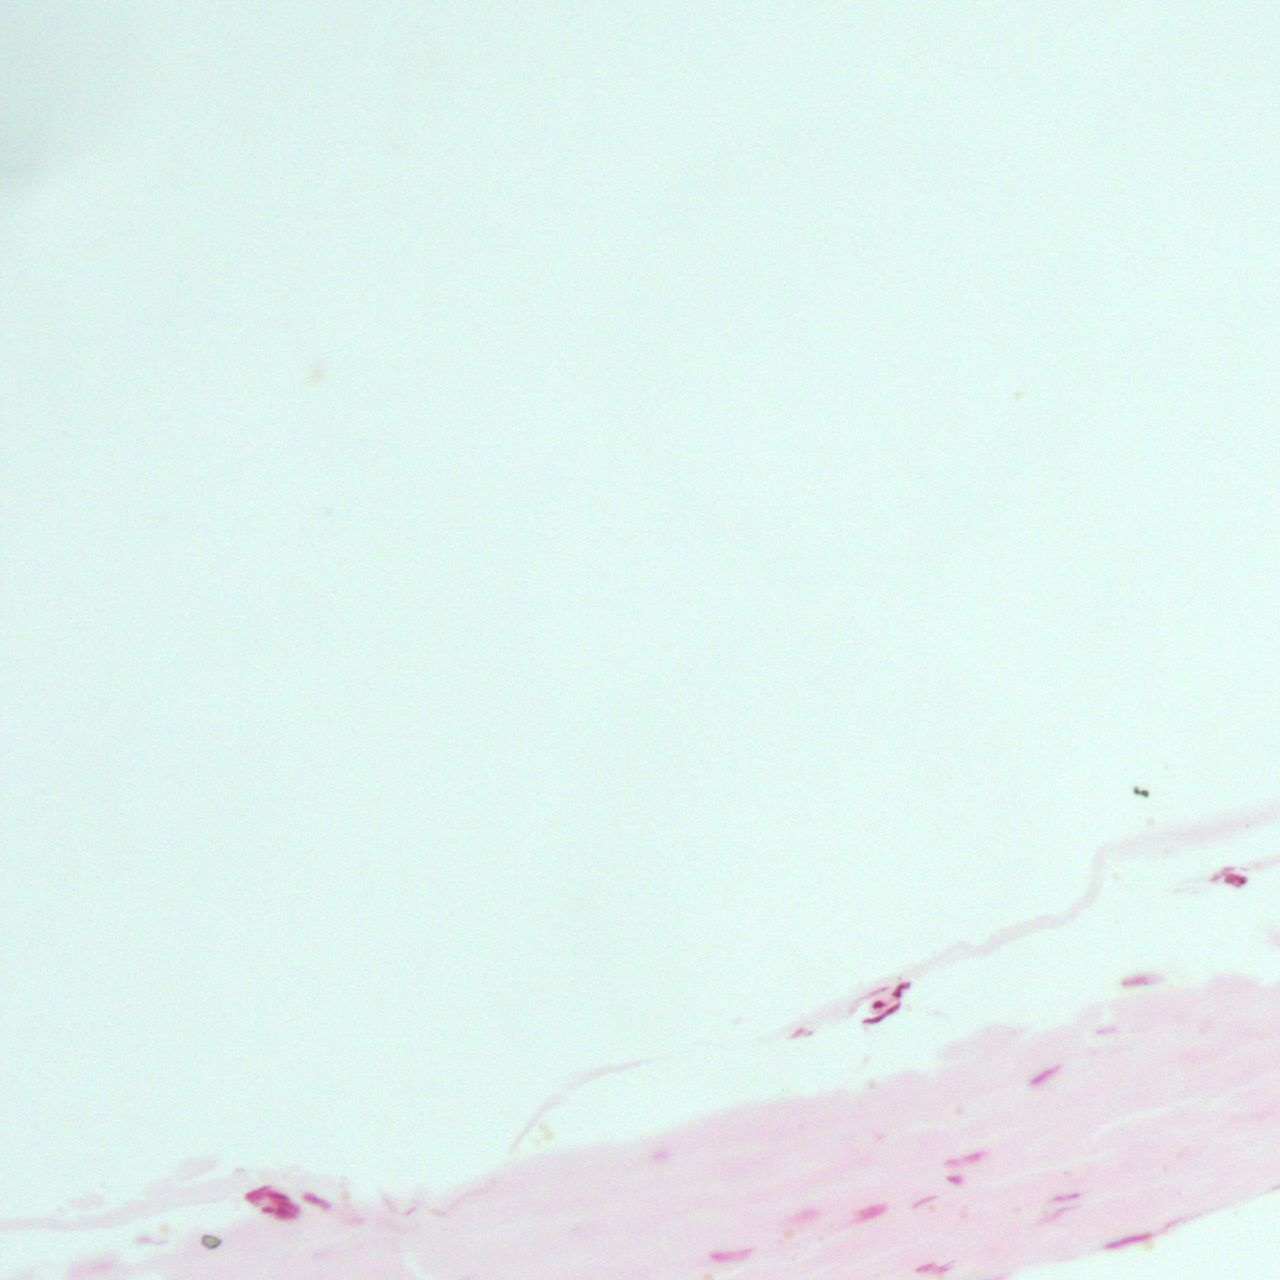dust: (1133, 785, 1139, 794), (1141, 790, 1148, 796)
nucleus-AC: (1103, 1228, 1155, 1253), (847, 1198, 891, 1226), (1039, 1201, 1080, 1225), (1028, 1064, 1061, 1088), (301, 1189, 333, 1212), (789, 1204, 821, 1224), (708, 1250, 750, 1264), (888, 978, 914, 1000), (908, 1191, 940, 1208), (243, 1184, 272, 1203), (961, 1149, 986, 1166), (862, 1010, 885, 1028), (931, 1259, 955, 1275), (913, 1259, 937, 1275), (1223, 874, 1246, 888), (134, 1235, 168, 1245), (264, 1191, 290, 1201), (884, 1002, 903, 1016), (1094, 1024, 1116, 1036), (273, 1208, 295, 1220), (1121, 976, 1149, 985), (651, 1150, 668, 1163), (871, 998, 886, 1012), (947, 1175, 964, 1186), (277, 1201, 299, 1210), (791, 1028, 803, 1039), (1068, 1191, 1081, 1200), (945, 1159, 959, 1167), (1219, 865, 1234, 872), (1211, 874, 1223, 881), (1051, 1196, 1064, 1201), (803, 1030, 813, 1037), (263, 1206, 272, 1212)
